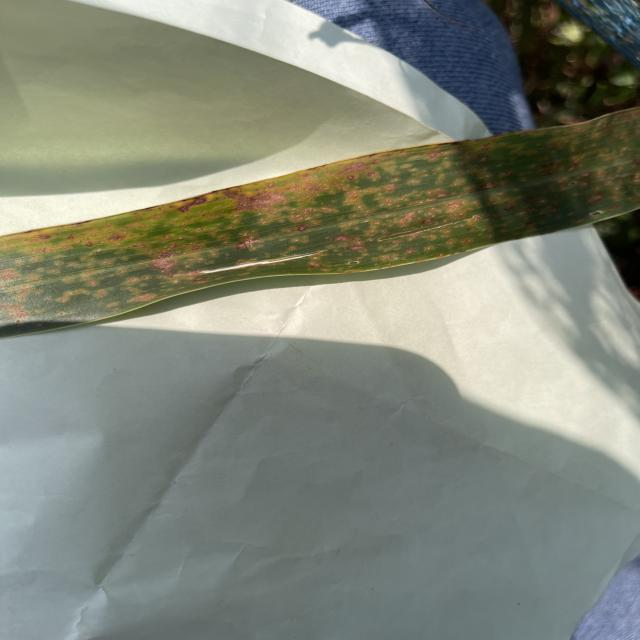millet_rust: (0, 112, 640, 336)
